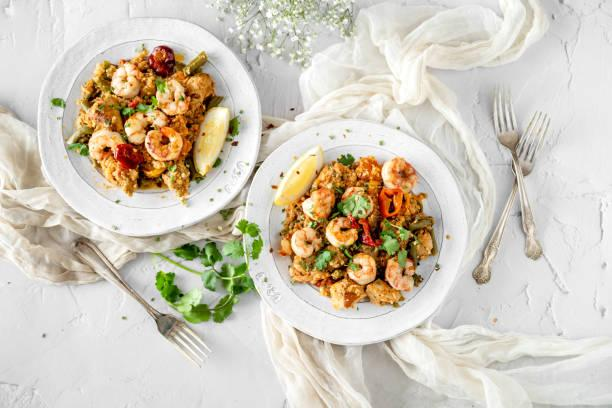Braised Crucian Carp: (242, 119, 463, 344), (36, 17, 257, 238)
